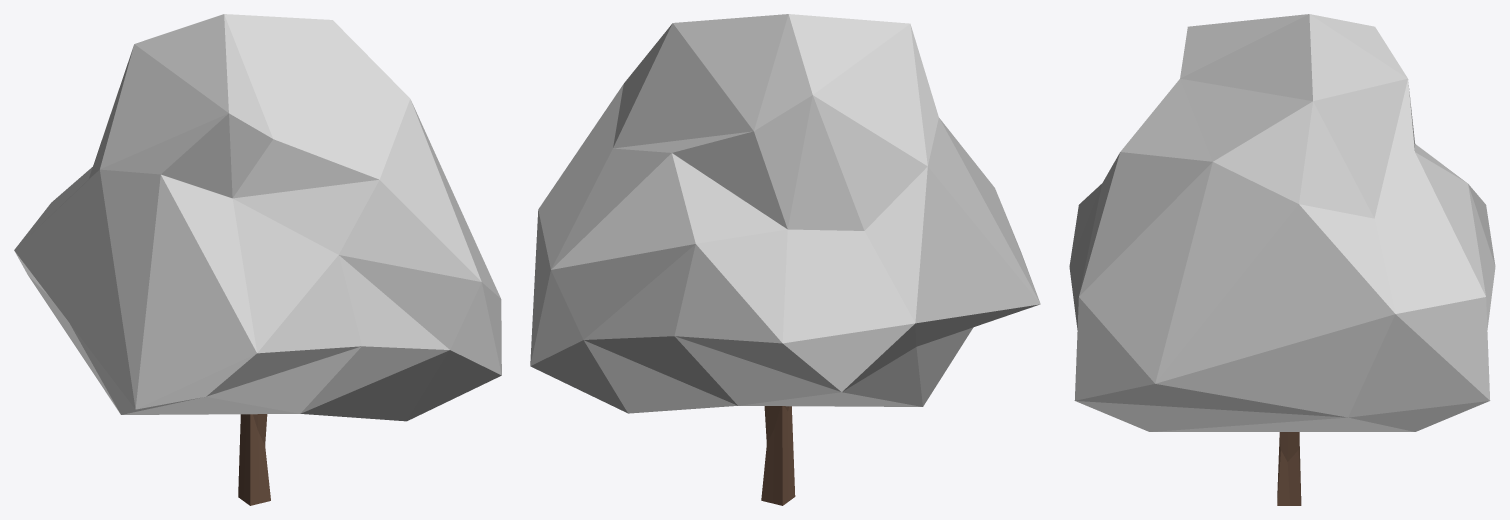
File: Tree_19_White.fbx
The picture shows the model from 3 angles, left to right: view 1: azimuth 30°, elevation 25°; view 2: azimuth 150°, elevation 25°; view 3: azimuth 270°, elevation 25°; orthographic projection. The views are drawn at different scales.
Parts seen in each view (by area): view 1: Tree_19_White_Part_1, Tree_19_White_Part_2; view 2: Tree_19_White_Part_1, Tree_19_White_Part_2; view 3: Tree_19_White_Part_1, Tree_19_White_Part_2.
Boxes of the visible parts, x1,y1,x2,y2 form: Tree_19_White_Part_1: (14,14,501,421); Tree_19_White_Part_2: (238,414,270,505); Tree_19_White_Part_1: (530,14,1040,413); Tree_19_White_Part_2: (761,406,795,505); Tree_19_White_Part_1: (1069,14,1495,431); Tree_19_White_Part_2: (1277,432,1301,505).
Bounding box in the file's own units: 641 × 800 × 647.
